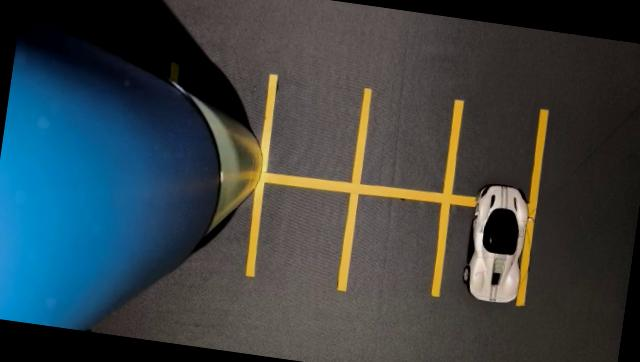toy_car: (428, 160, 565, 349)
